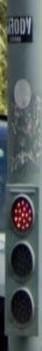red_light: (6, 184, 42, 336)
